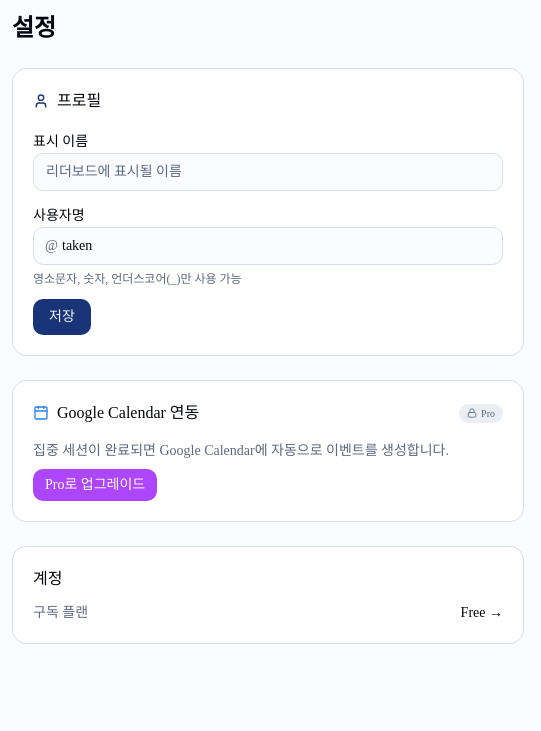
it: SettingsClient — 프로필 섹션 › username 중복 에러 시 에러 toast를 표시한다
Click the button "저장" at coordinates (62, 317), box [33, 299, 91, 335]
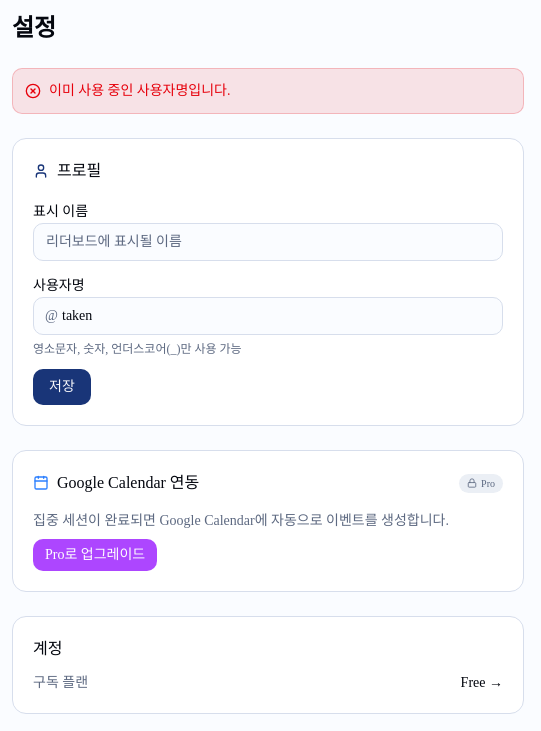
Expected: the text "이미 사용 중인 사용자명입니다." is shown, [12, 68, 524, 114]
